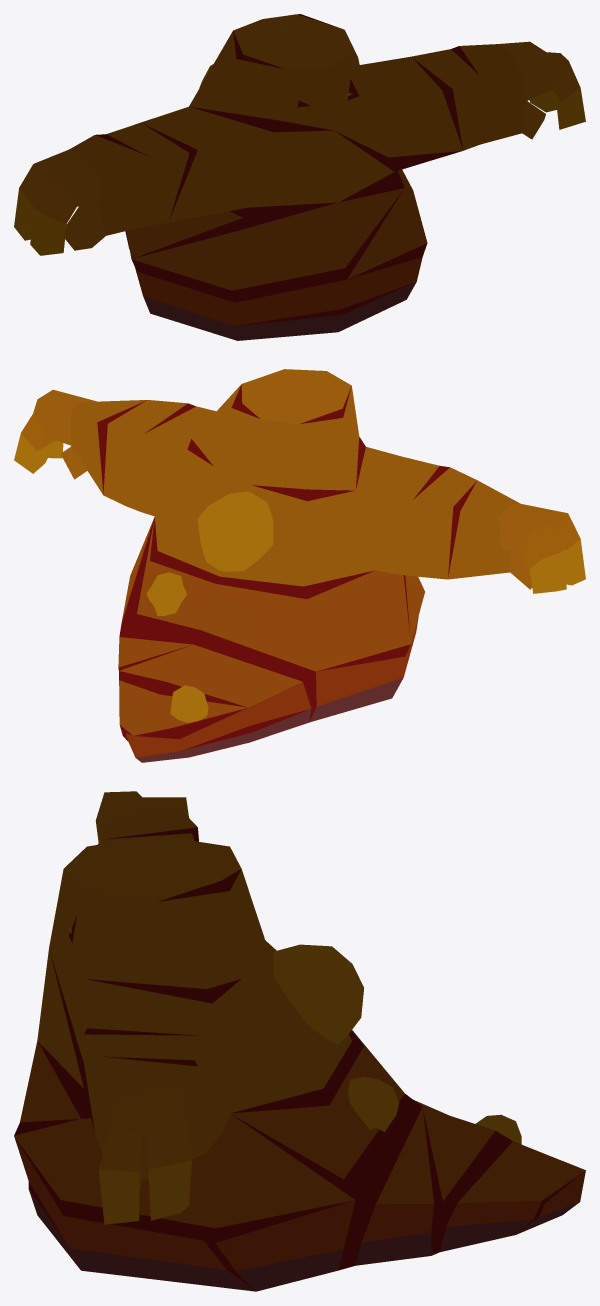
The picture shows the model from 3 angles, top to bottom: view 1: azimuth 30°, elevation 25°; view 2: azimuth 150°, elevation 25°; view 3: azimuth 270°, elevation 25°; orthographic projection. The views are drawn at different scales.
Visible parts, largest first — view 1: runescapemodel; view 2: runescapemodel; view 3: runescapemodel.
Boxes of the visible parts, <box> form: runescapemodel: <box>14,14,585,340</box>; runescapemodel: <box>14,369,585,762</box>; runescapemodel: <box>14,791,585,1291</box>.
Bounding box in the file's own units: 291 × 143 × 196.
